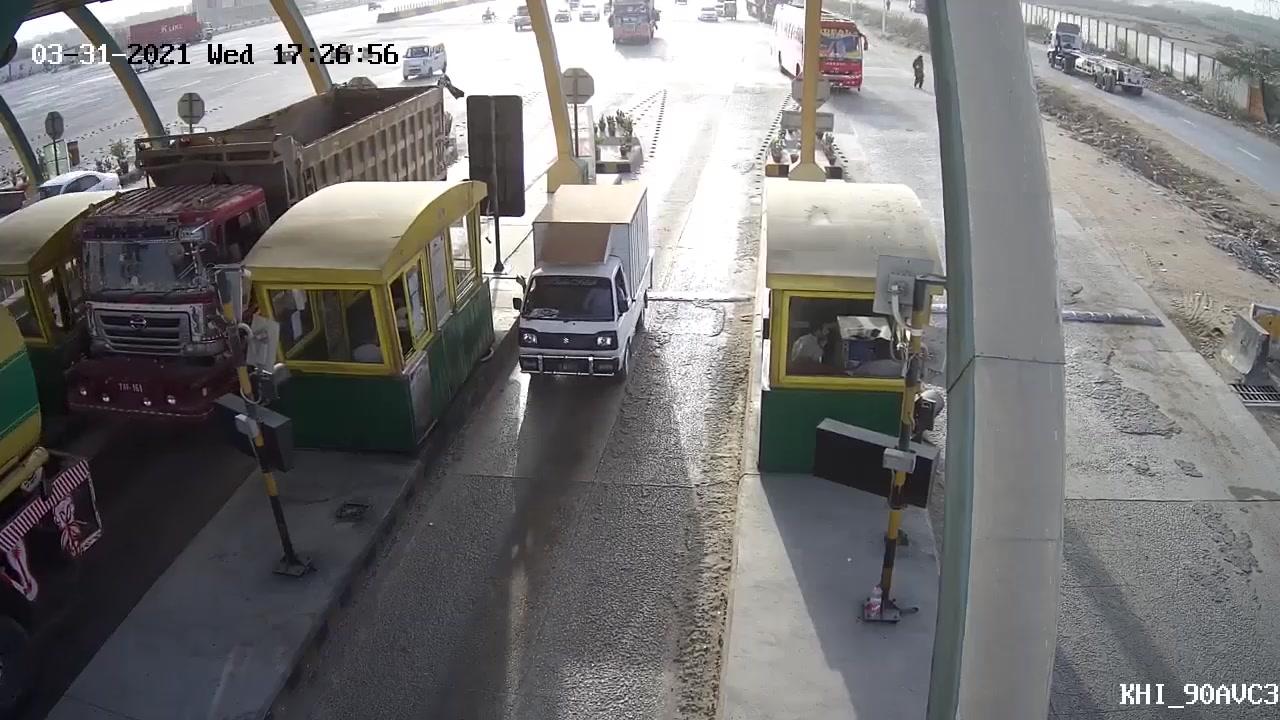F1: (499, 179, 652, 400)
